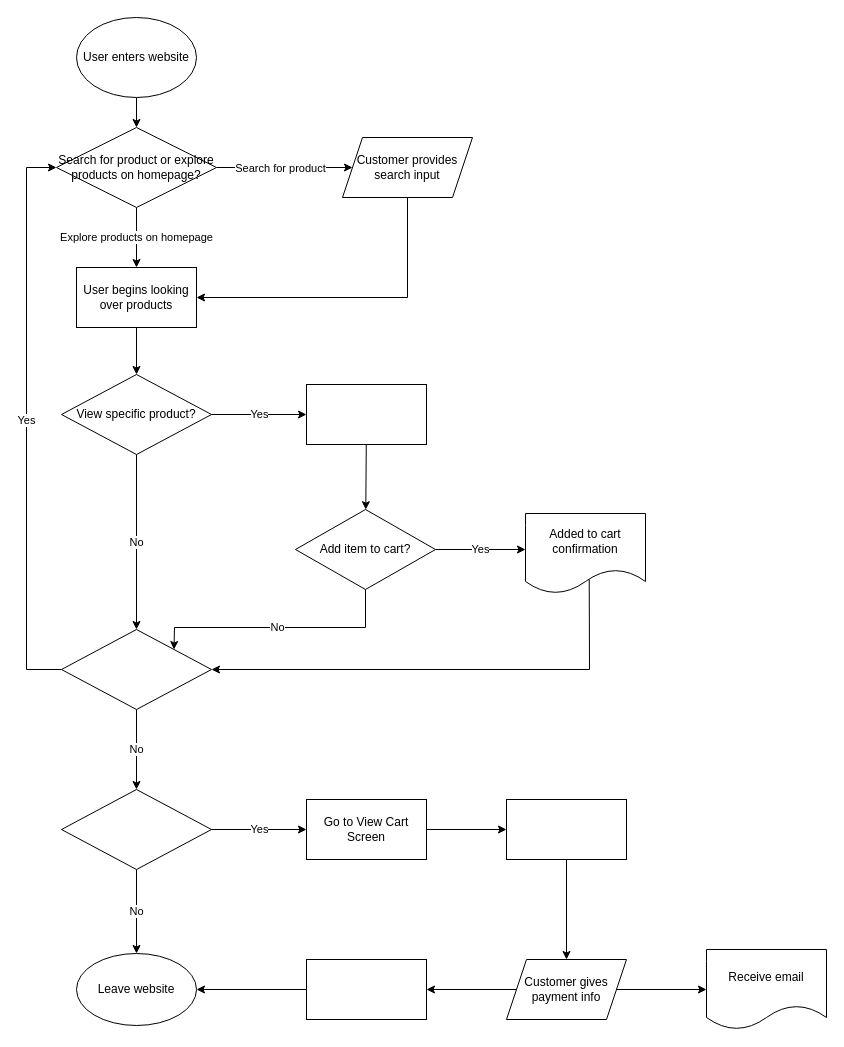
This 844x1047 diagram has some shape labels left out. The box of each missing label's shape, as (x1, y1, x2, y2) in pixels:
Checkout?: (60, 788, 212, 870)
Continue shopping?: (60, 628, 212, 710)
Go to View Payment Screen: (506, 798, 626, 860)
Order confirmation screen: (306, 958, 426, 1020)
Product's webpage will open: (306, 384, 426, 444)
